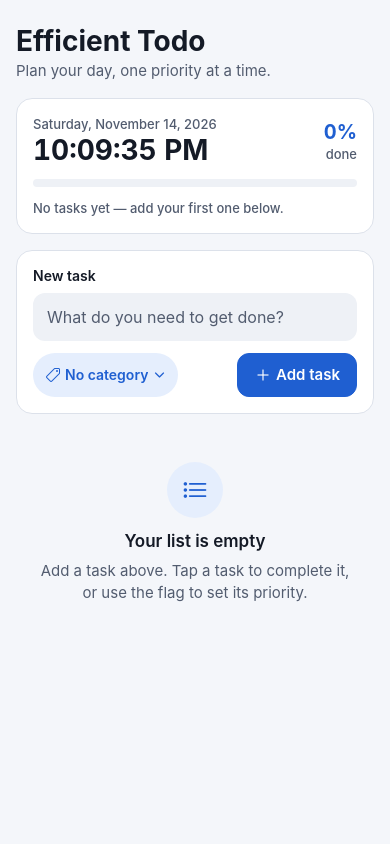
clears completed tasks
Check: the text "Your list is empty" is shown, box [124, 530, 266, 552]
Type "Done already" into the field named "New task".
click(195, 317); type("Done already")  # box [33, 293, 357, 341]
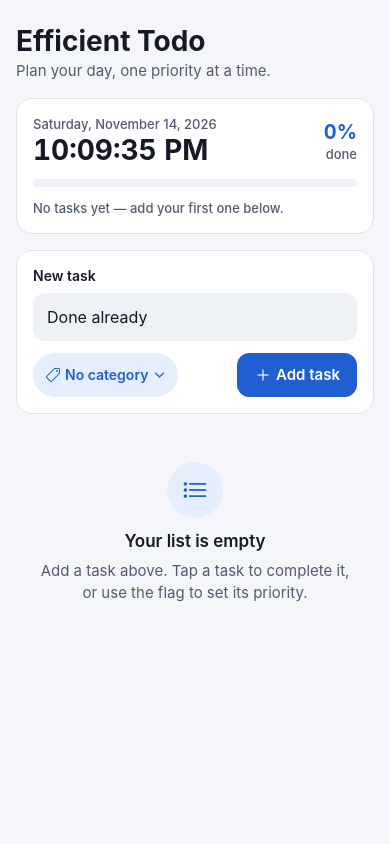
Click the button "Add task".
click(297, 375)  # box [237, 353, 357, 397]
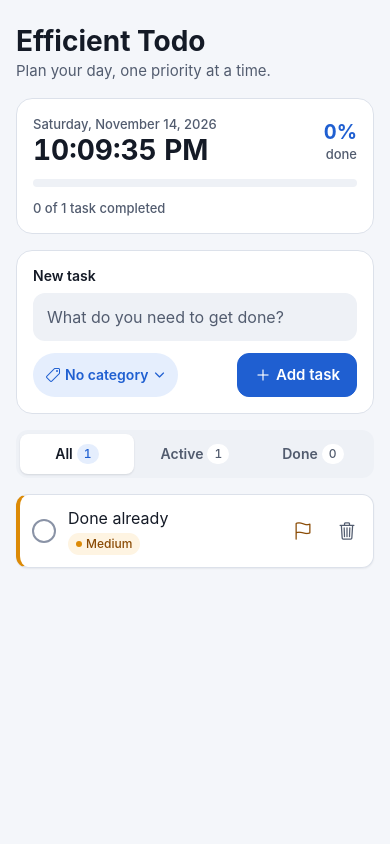
Type "Still open" into the field named "New task".
click(195, 317); type("Still open")  # box [33, 293, 357, 341]
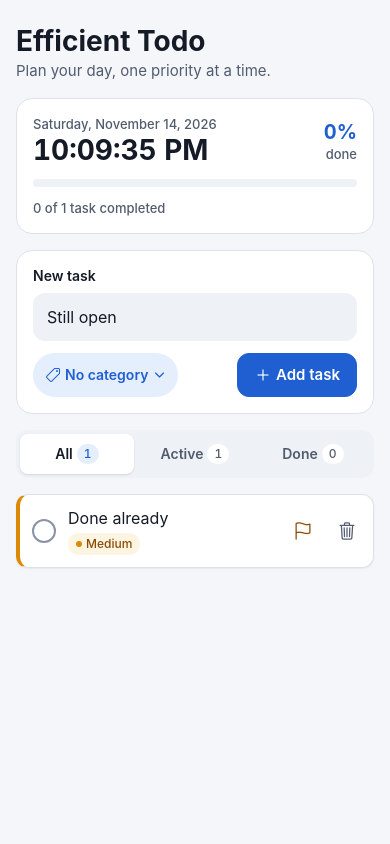
Click the button "Add task".
click(297, 375)  # box [237, 353, 357, 397]
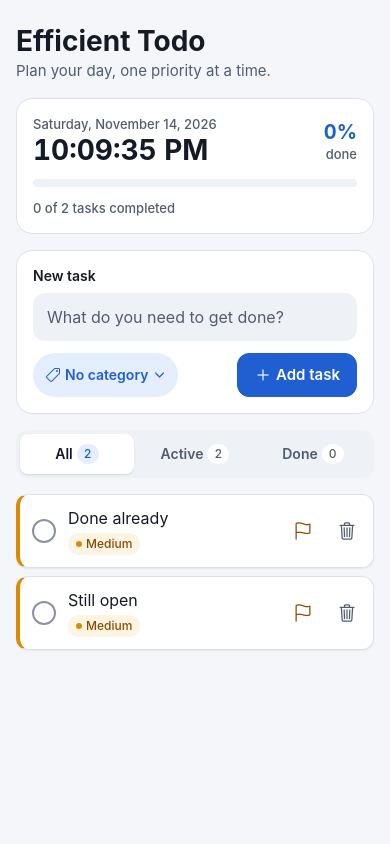
Click the checkbox labelled "Done already".
click(100, 532)  # box [32, 508, 168, 555]
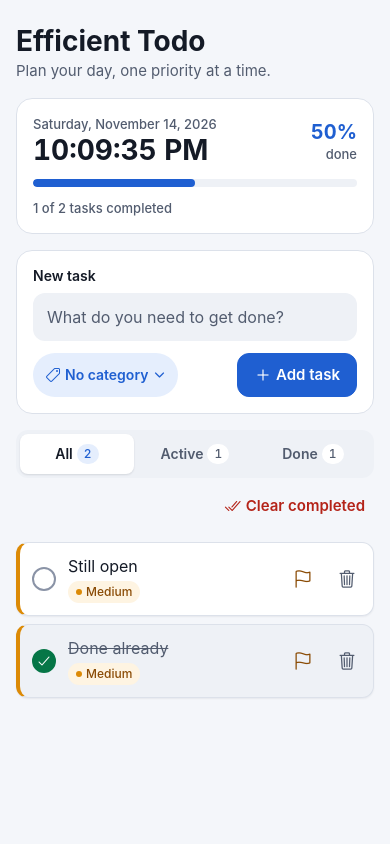
Click the button "Clear completed".
click(294, 506)  # box [215, 486, 374, 526]
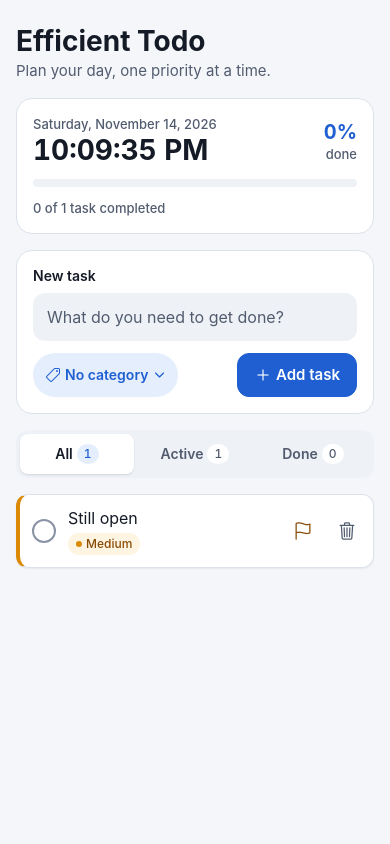
Check: the text "Still open" is shown, box [68, 508, 138, 528]
Check: the checkbox "Done already" is gone
